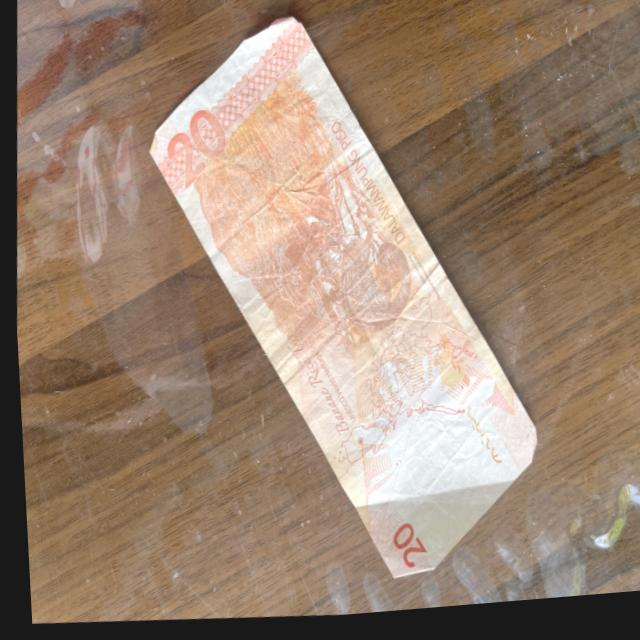20_civet: (311, 216, 412, 347)
20_civet_watermark: (419, 341, 467, 408)
